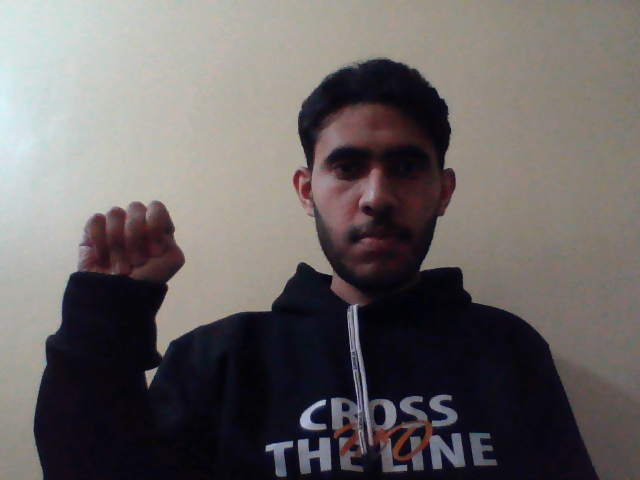M: (71, 195, 189, 298)
